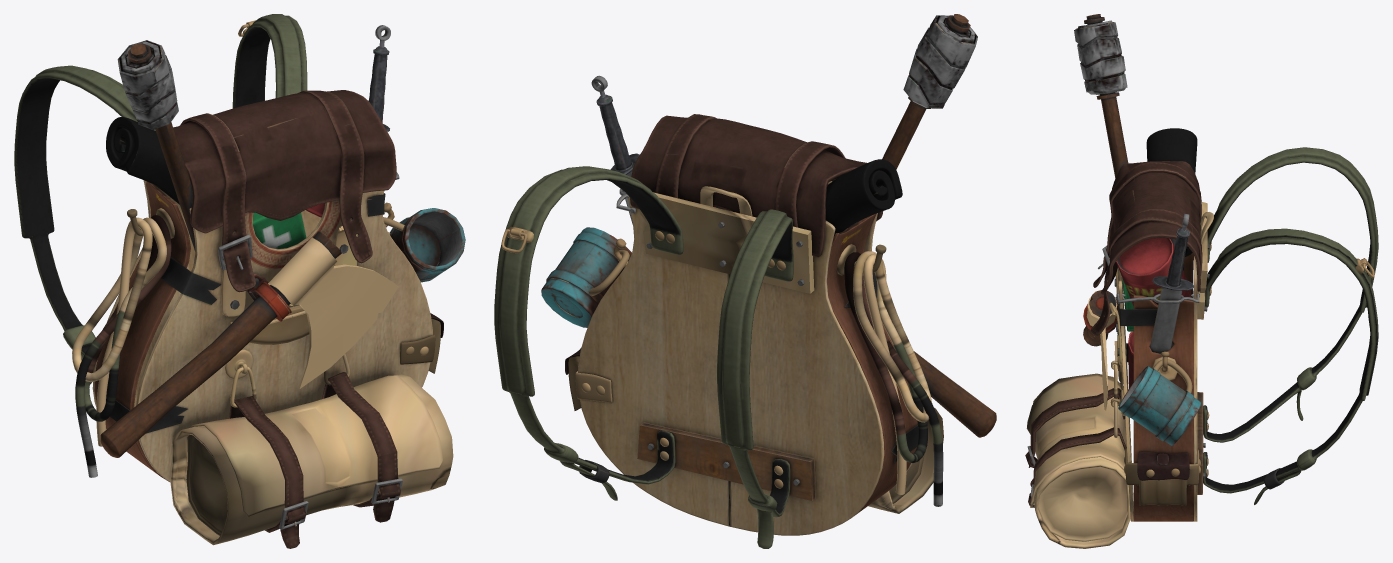
The model's file is Survival_BackPack_2.fbx.
The picture shows the model from 3 angles, left to right: view 1: azimuth 30°, elevation 25°; view 2: azimuth 150°, elevation 25°; view 3: azimuth 270°, elevation 25°; orthographic projection. The views are drawn at different scales.
Parts seen in each view (by area): view 1: Plane.008; view 2: Plane.008; view 3: Plane.008.
Boxes of the visible parts, bbox=[...] form: Plane.008: bbox=[14, 14, 465, 548]; Plane.008: bbox=[494, 14, 996, 548]; Plane.008: bbox=[1025, 14, 1378, 548].
Bounding box in the file's own units: 416 × 515 × 386.
Materials: 1 (1 with a texture image).
